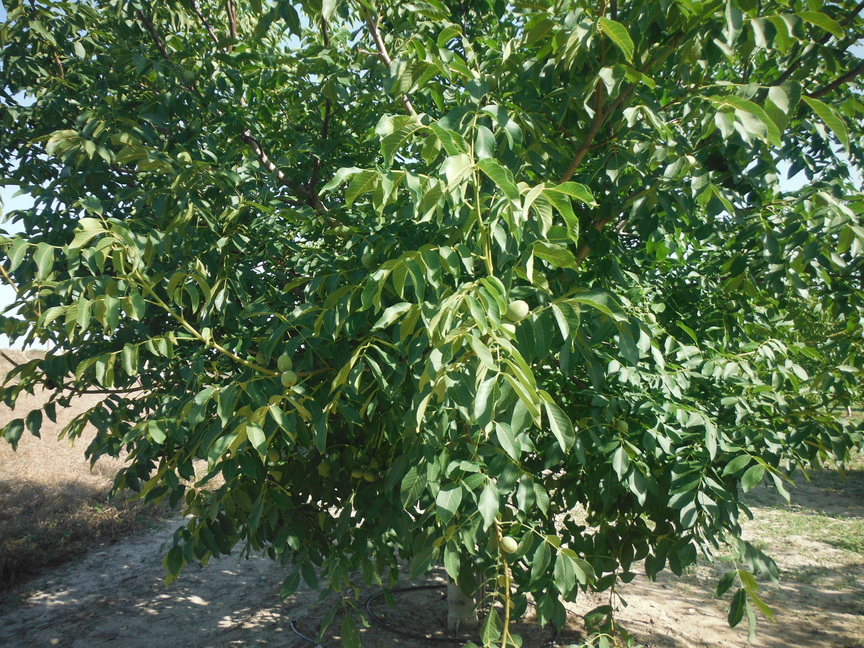walnut: (504, 297, 530, 323), (496, 317, 517, 342), (497, 532, 519, 555), (460, 68, 483, 89), (360, 250, 380, 273), (276, 352, 294, 373), (280, 369, 298, 389), (482, 71, 498, 93), (266, 444, 281, 463), (363, 467, 379, 484), (613, 418, 630, 434), (253, 350, 269, 366), (181, 68, 196, 85), (189, 117, 203, 135), (349, 465, 365, 480), (643, 310, 657, 326), (364, 54, 377, 70), (409, 431, 420, 448), (107, 68, 120, 82), (692, 158, 706, 171), (724, 297, 736, 312), (279, 62, 293, 74), (505, 78, 517, 92), (190, 505, 203, 516), (548, 499, 559, 512), (249, 16, 257, 27)
